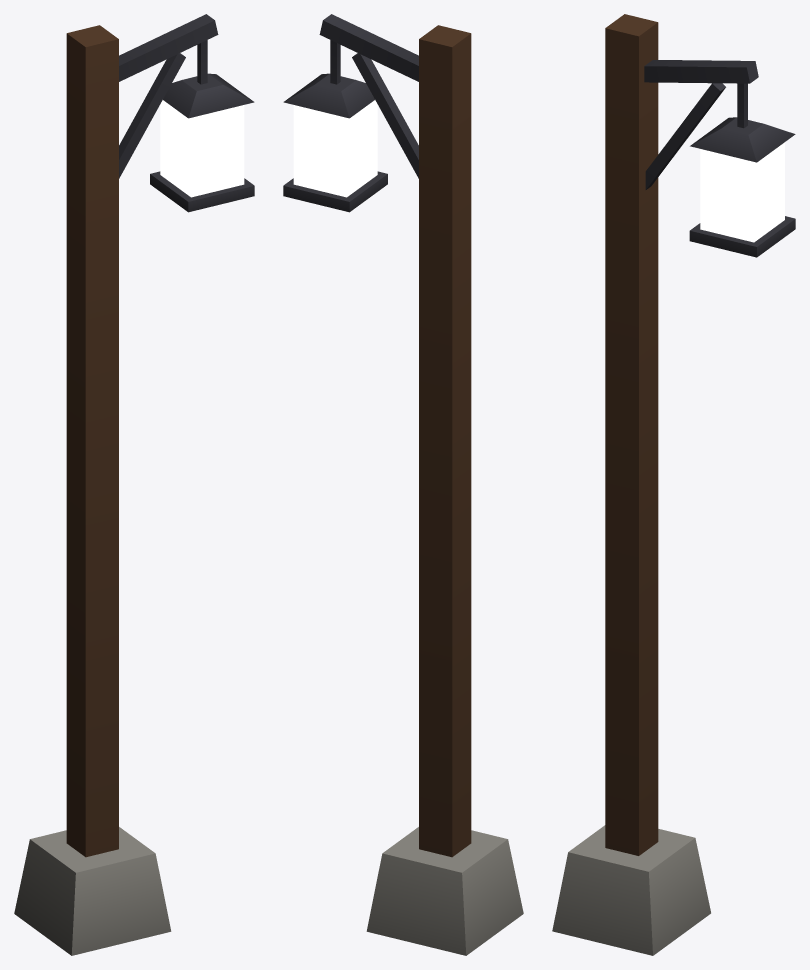
Rendered from b_lantern.glb.
3 views of the same model, side by side, from view 1: azimuth 30°, elevation 25°; view 2: azimuth 150°, elevation 25°; view 3: azimuth 330°, elevation 25° (orthographic).
Visible parts, largest first — view 1: wood, stone, plain, glow; view 2: wood, stone, plain, glow; view 3: wood, stone, plain, glow.
Boxes of the visible parts, x1,y1,x2,y2 form: wood: (66,25,118,857); stone: (14,827,171,955); plain: (119,14,254,212); glow: (160,100,244,197); wood: (419,25,471,857); stone: (366,827,523,955); plain: (283,14,418,212); glow: (293,100,377,197); wood: (605,14,658,855); stone: (552,825,710,955); plain: (644,60,795,257); glow: (700,142,784,242).
Bounding box in the file's own units: 0.58 × 2.55 × 0.3.
